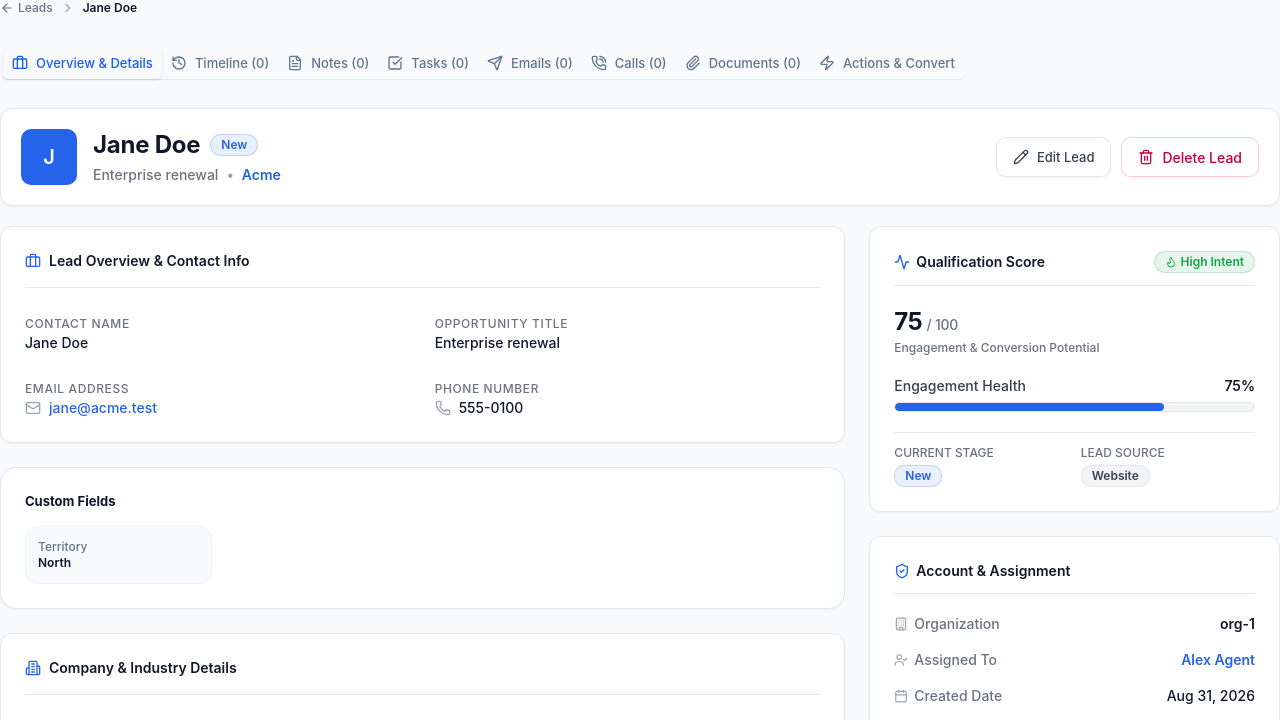
it: LeadDetailPage email workflow › shows the Lead recipient and reports queued delivery
Step 1. Click the tab "Emails (0)" → (530, 63), box top-left (478, 48), bottom-right (582, 78)
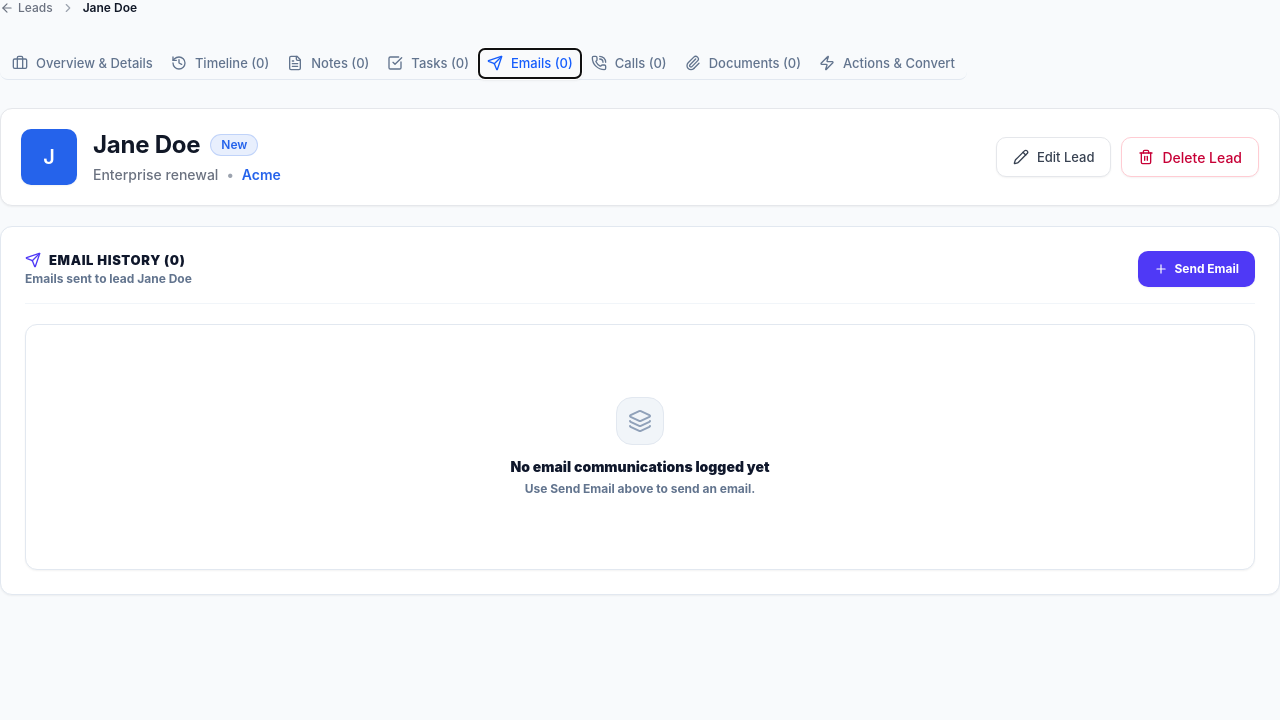
Step 2. Click the button "Send Email" → (1197, 269), box top-left (1138, 251), bottom-right (1255, 287)
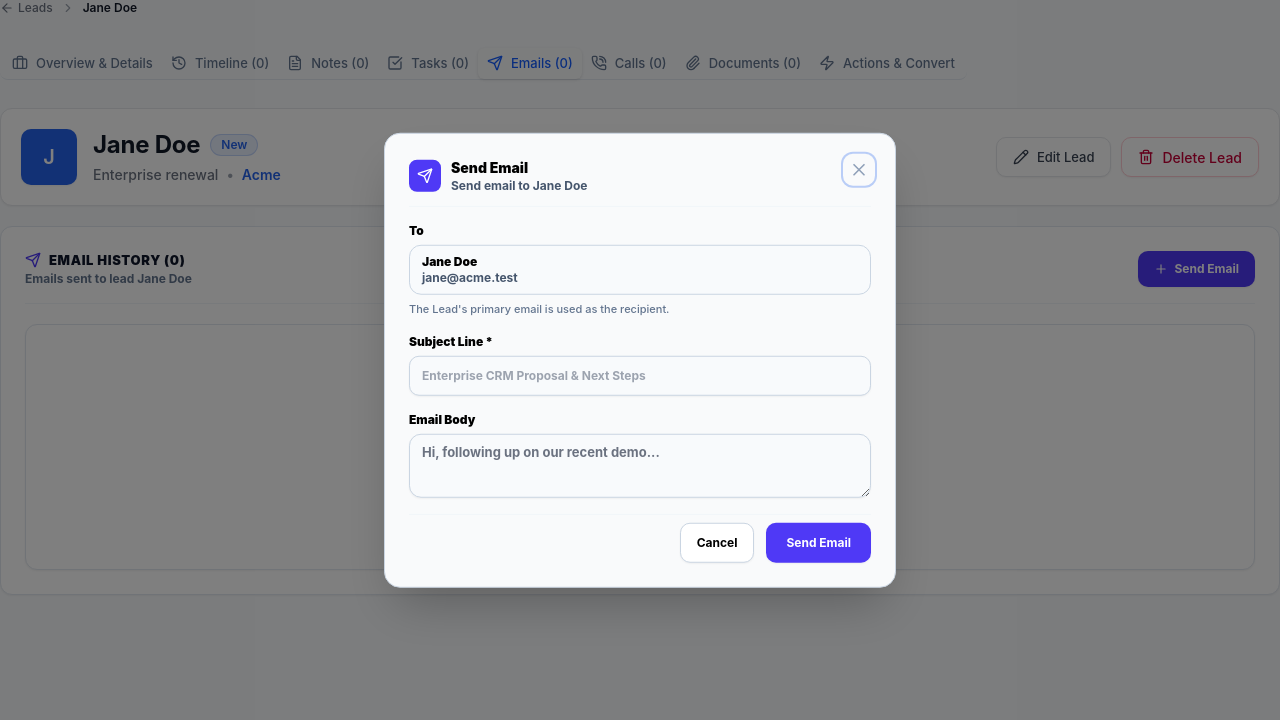
Check: the text "The Lead's primary email is used as the recipient." is shown, box top-left (409, 302), bottom-right (670, 316)
Check: the text "jane@acme.test" is shown, box top-left (422, 270), bottom-right (518, 285)
Step 3. Type "Hello" into the field with placeholder "Enterprise CRM Proposal & Next Steps" → (640, 375), box top-left (409, 355), bottom-right (871, 395)
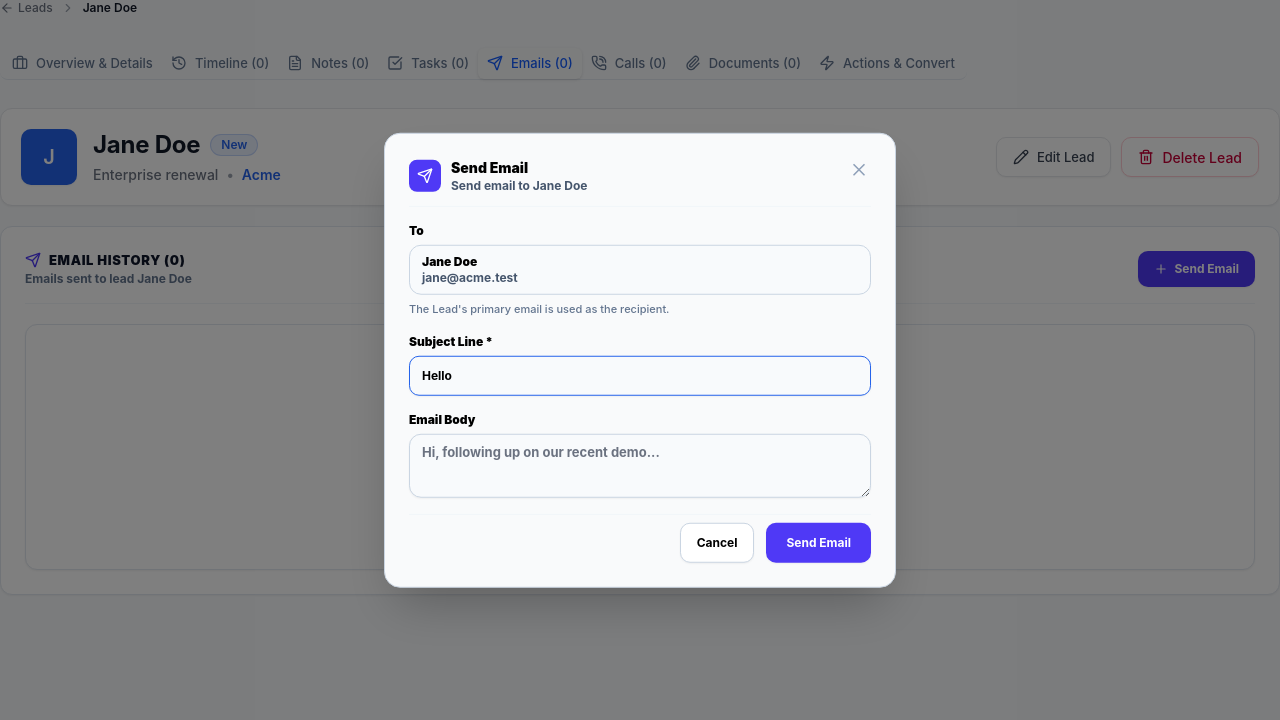
Step 4. Type "Hi Jane" into the text box with placeholder "Hi, following up on our recent demo..." → (640, 465), box top-left (409, 433), bottom-right (871, 497)
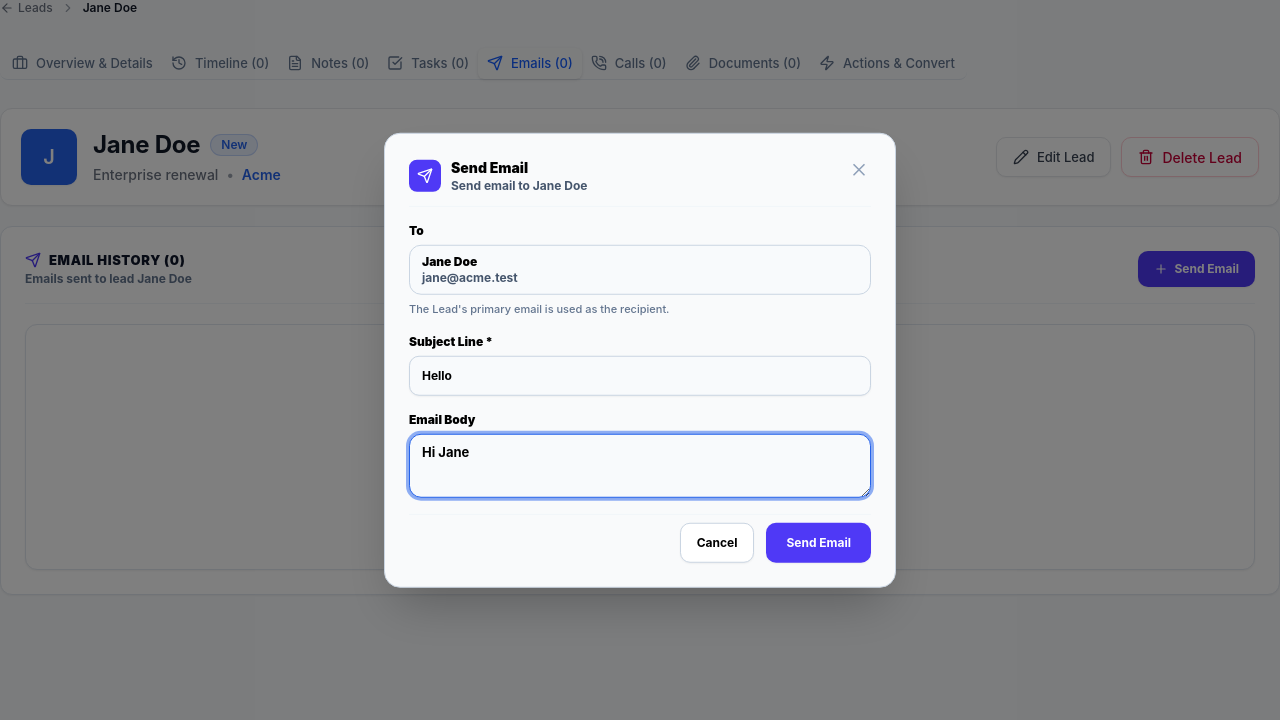
Step 5. Click the button "Send Email" → (819, 542), box top-left (766, 522), bottom-right (871, 562)
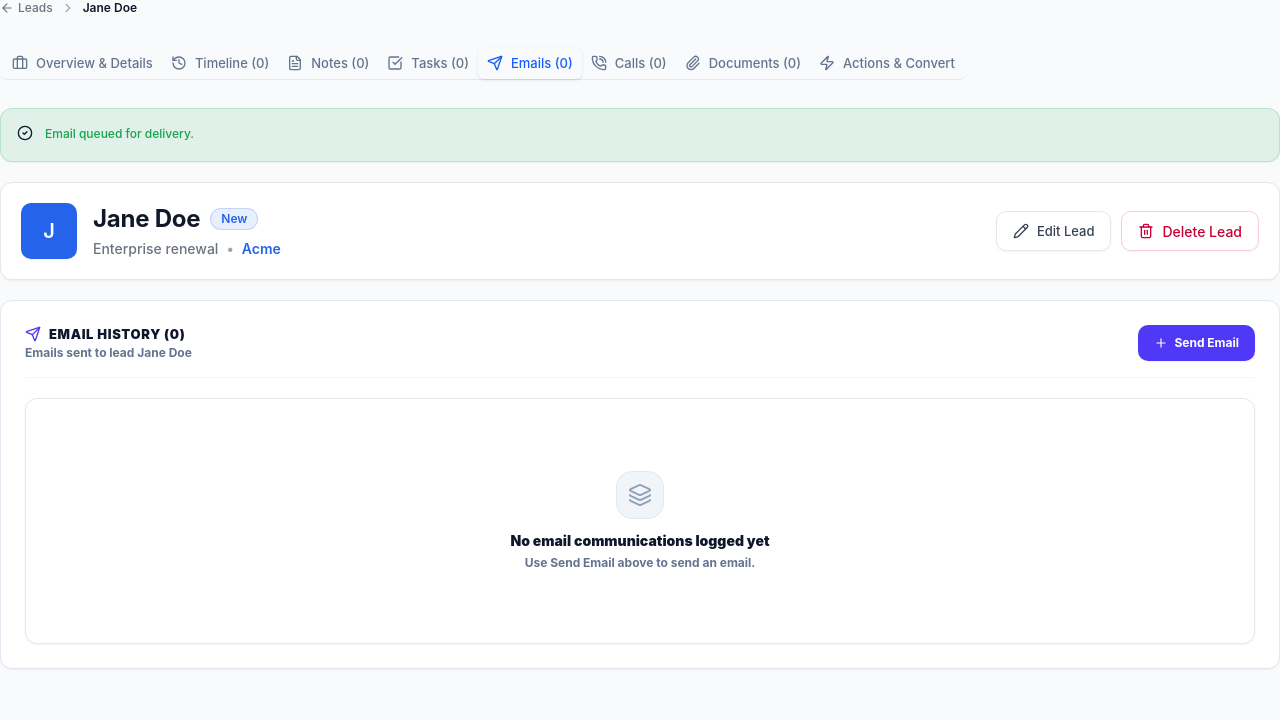
Check: the text "Email queued for delivery." is shown, box top-left (45, 126), bottom-right (194, 141)
